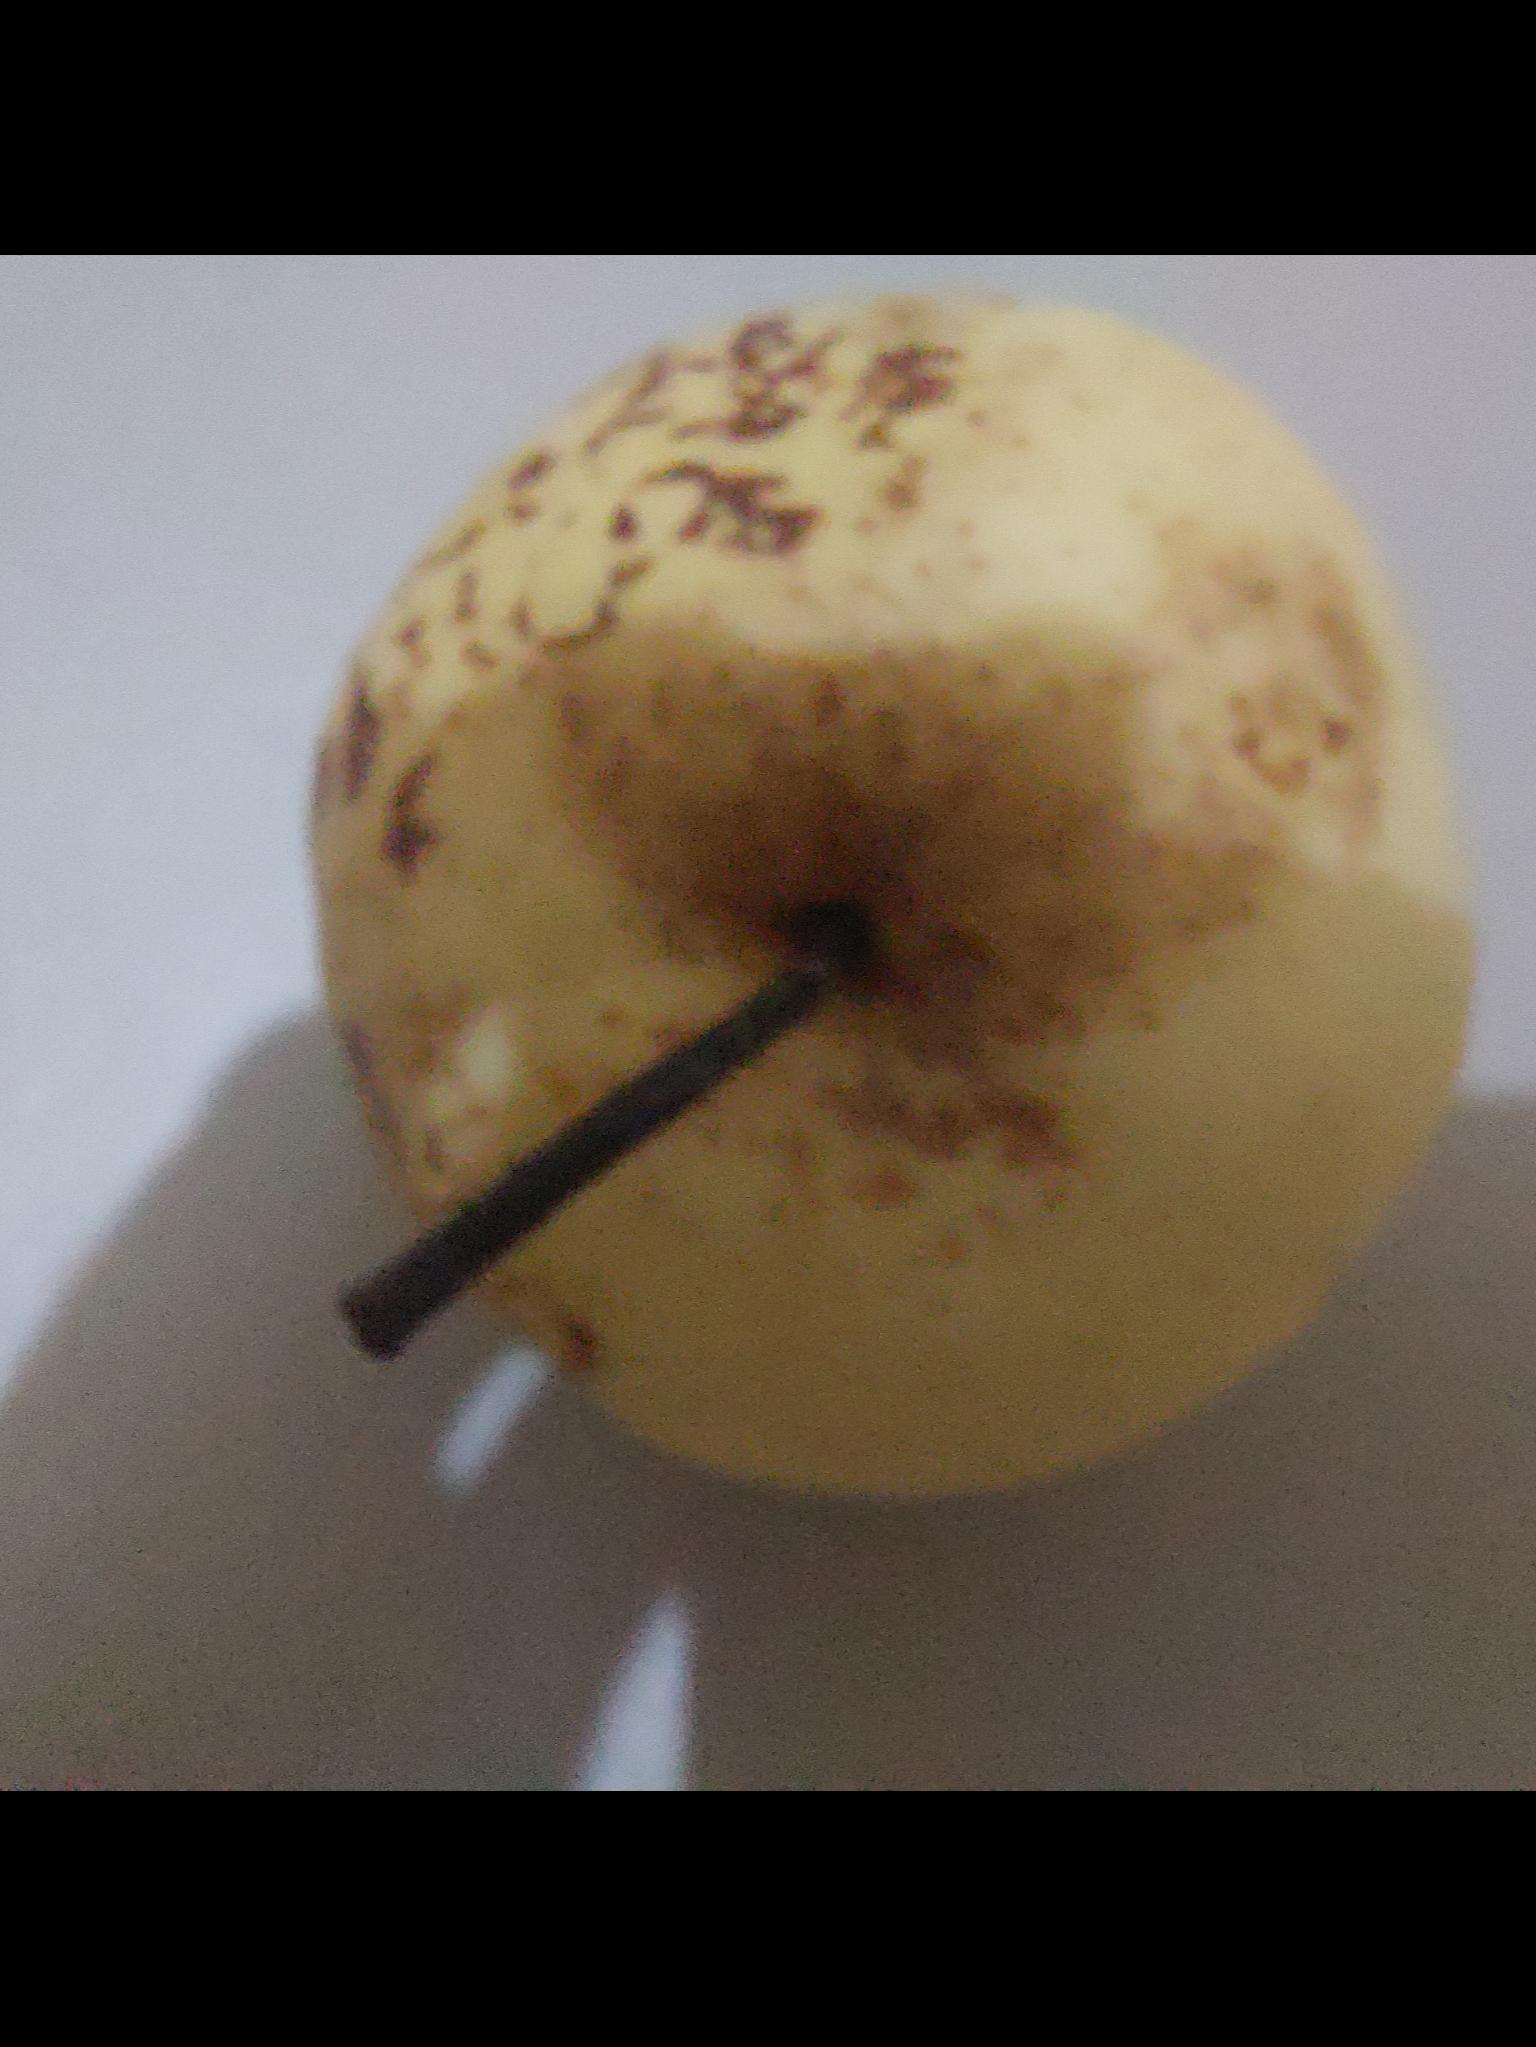Bad Pear: (279, 295, 1489, 1507)
